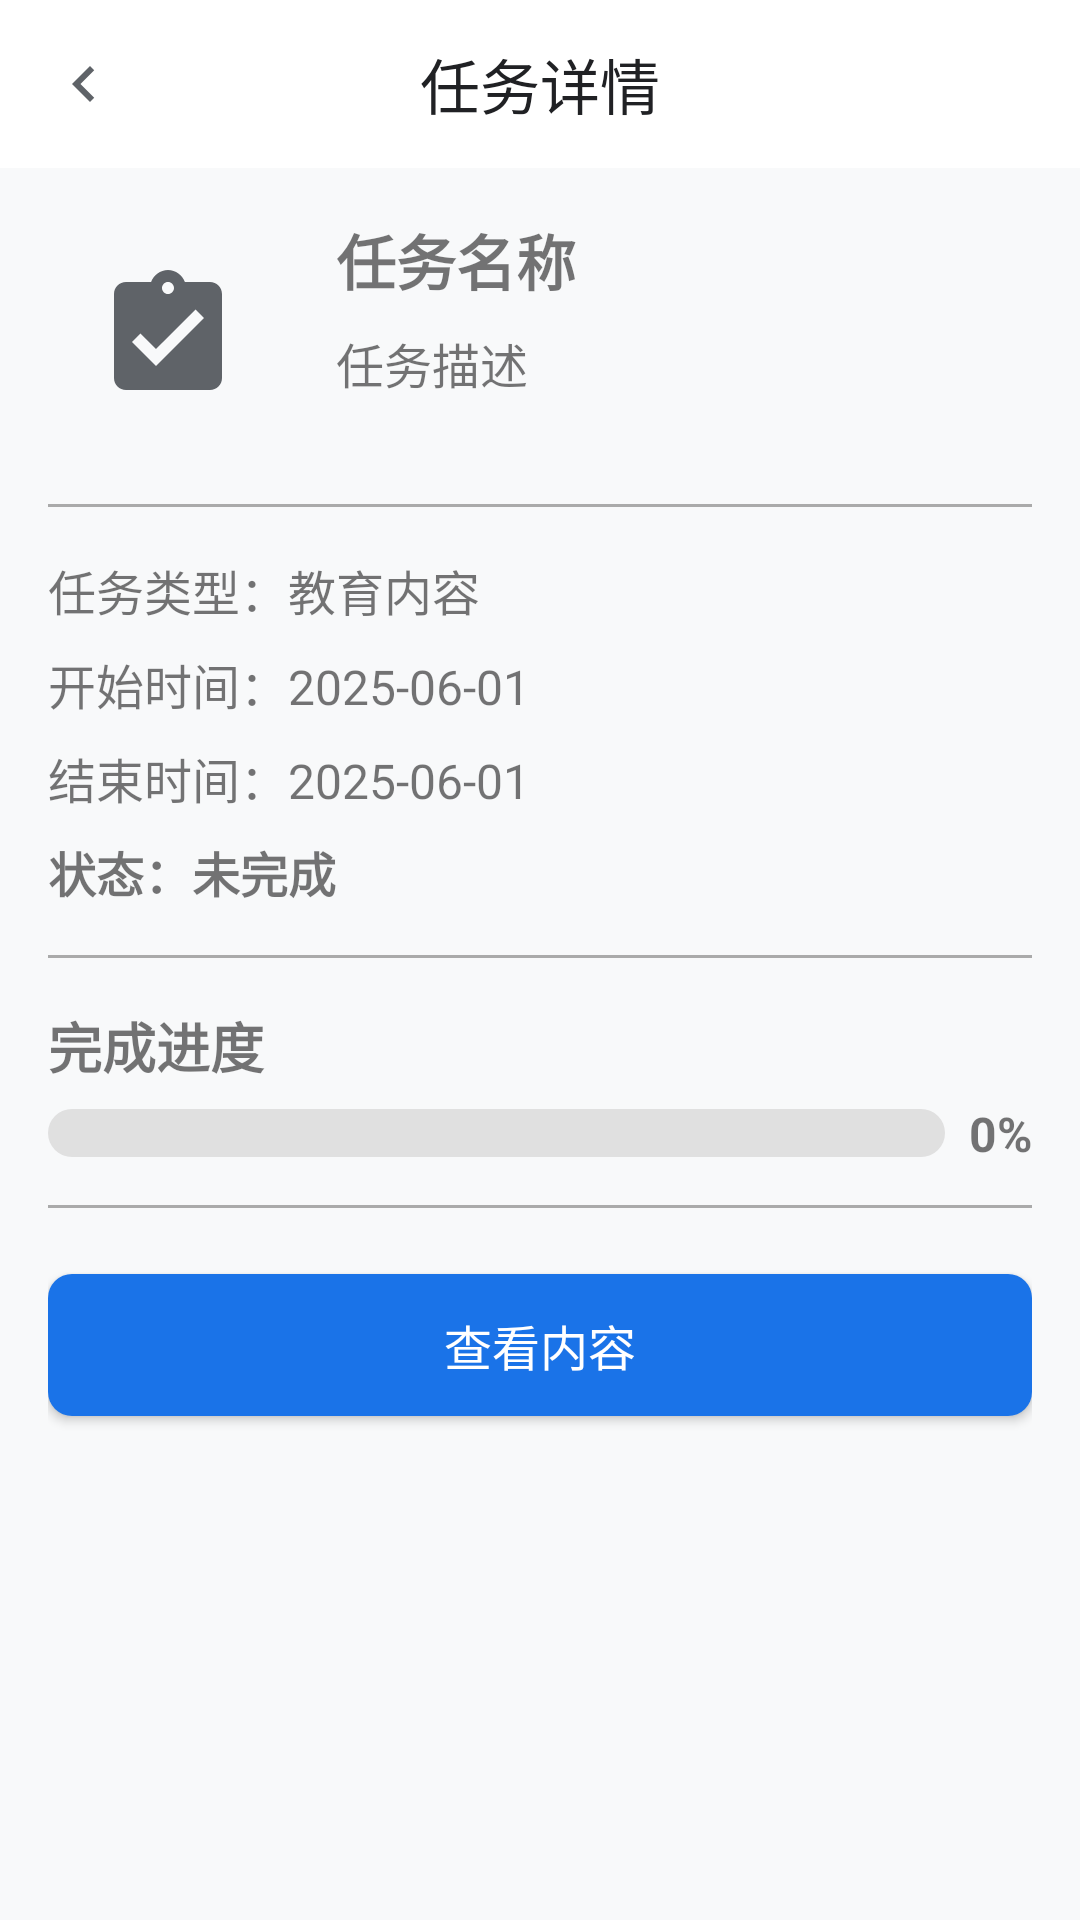

Icon bounding boxes for this 1080×1920 phone screenshot, format (x1, y1, x2, y2):
task: (114, 270, 222, 390)
